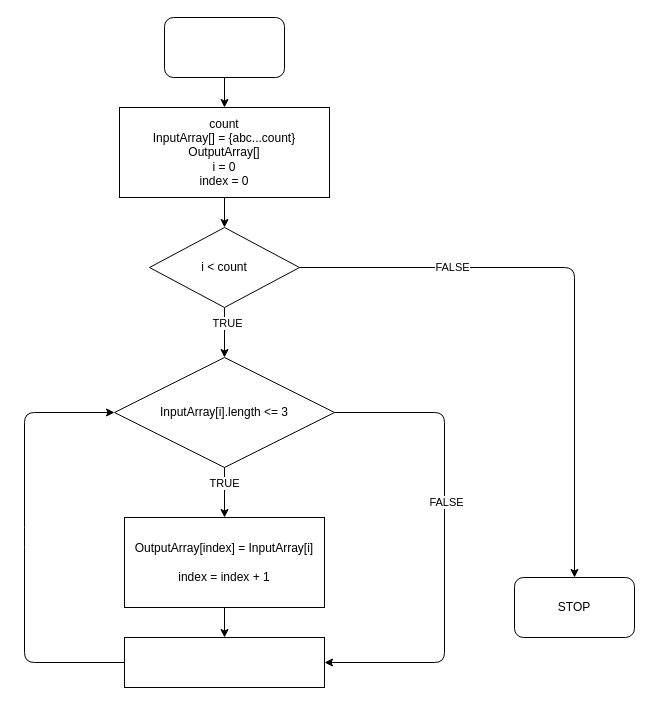
Image size: 652x705. Some labels were removed from this diagram. Each missing label, with the box of its shape:
i = i + 1: (124, 636, 324, 688)
START: (164, 16, 284, 78)
